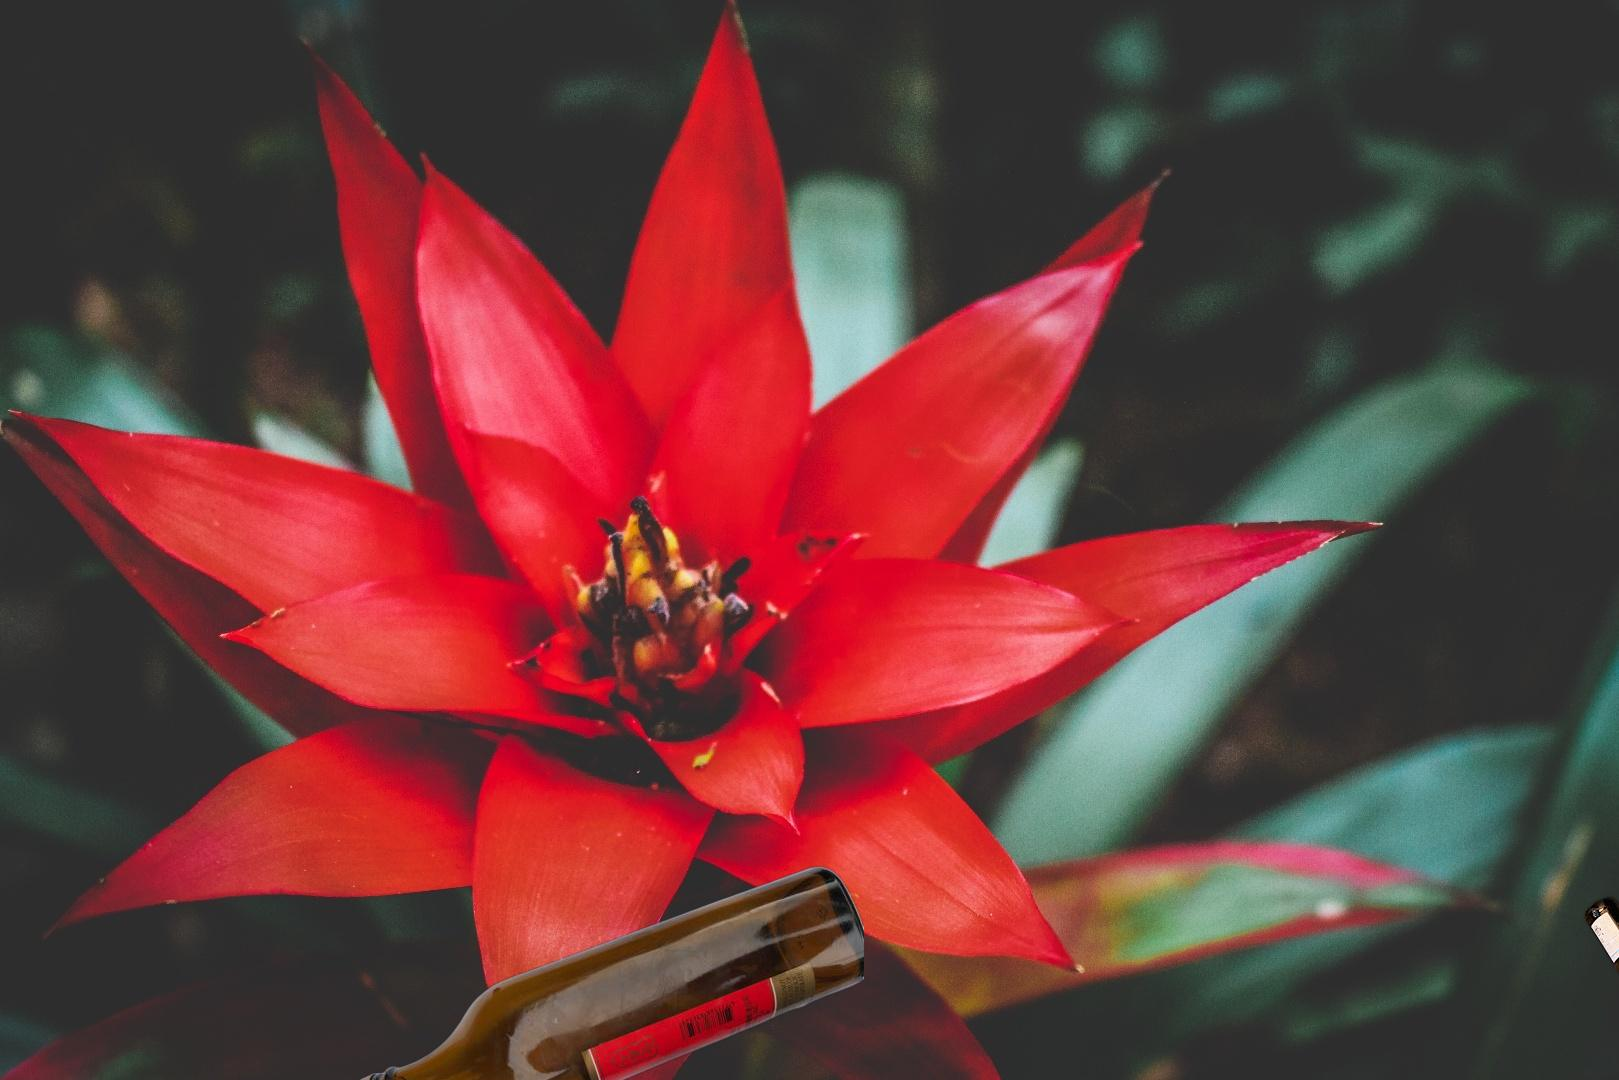glass: (352, 863, 864, 1080), (1580, 892, 1619, 1023)
